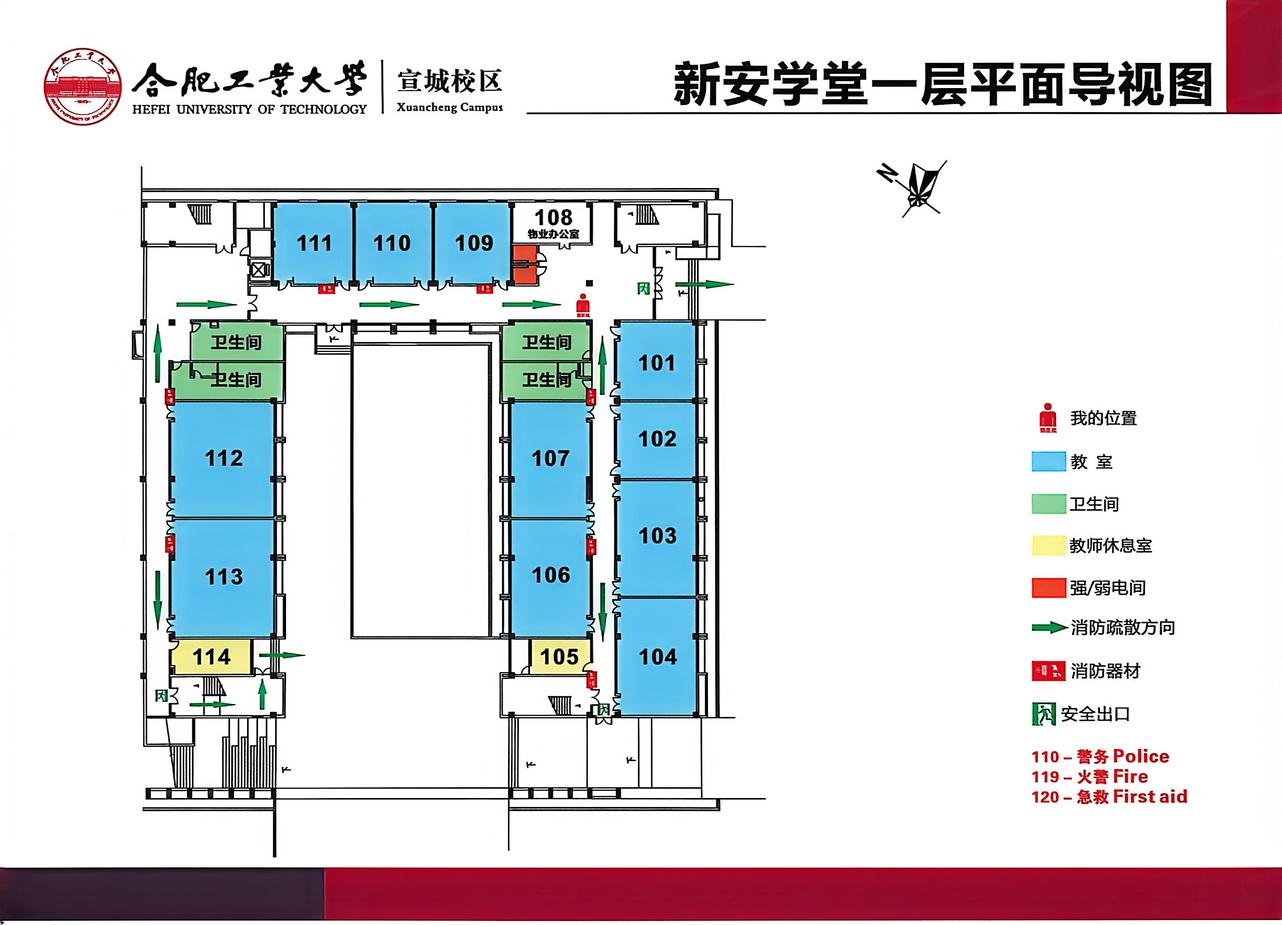101: (615, 322, 696, 401)
102: (615, 401, 696, 479)
103: (615, 480, 697, 597)
104: (616, 598, 698, 716)
105: (530, 639, 592, 675)
106: (511, 519, 591, 638)
107: (510, 402, 591, 518)
108: (513, 202, 591, 244)
109: (434, 201, 512, 284)
110: (354, 201, 433, 284)
111: (273, 201, 353, 284)
112: (170, 402, 275, 519)
113: (170, 520, 275, 638)
114: (170, 639, 253, 676)
Exit: (507, 715, 519, 788), (688, 259, 698, 318), (270, 639, 280, 677)
Toliet: (501, 321, 591, 402), (171, 362, 284, 401), (193, 321, 284, 362)
